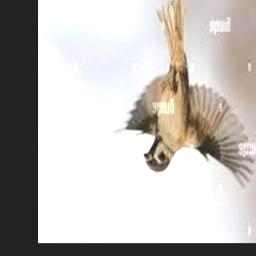Sparrow: (112, 0, 253, 189)
